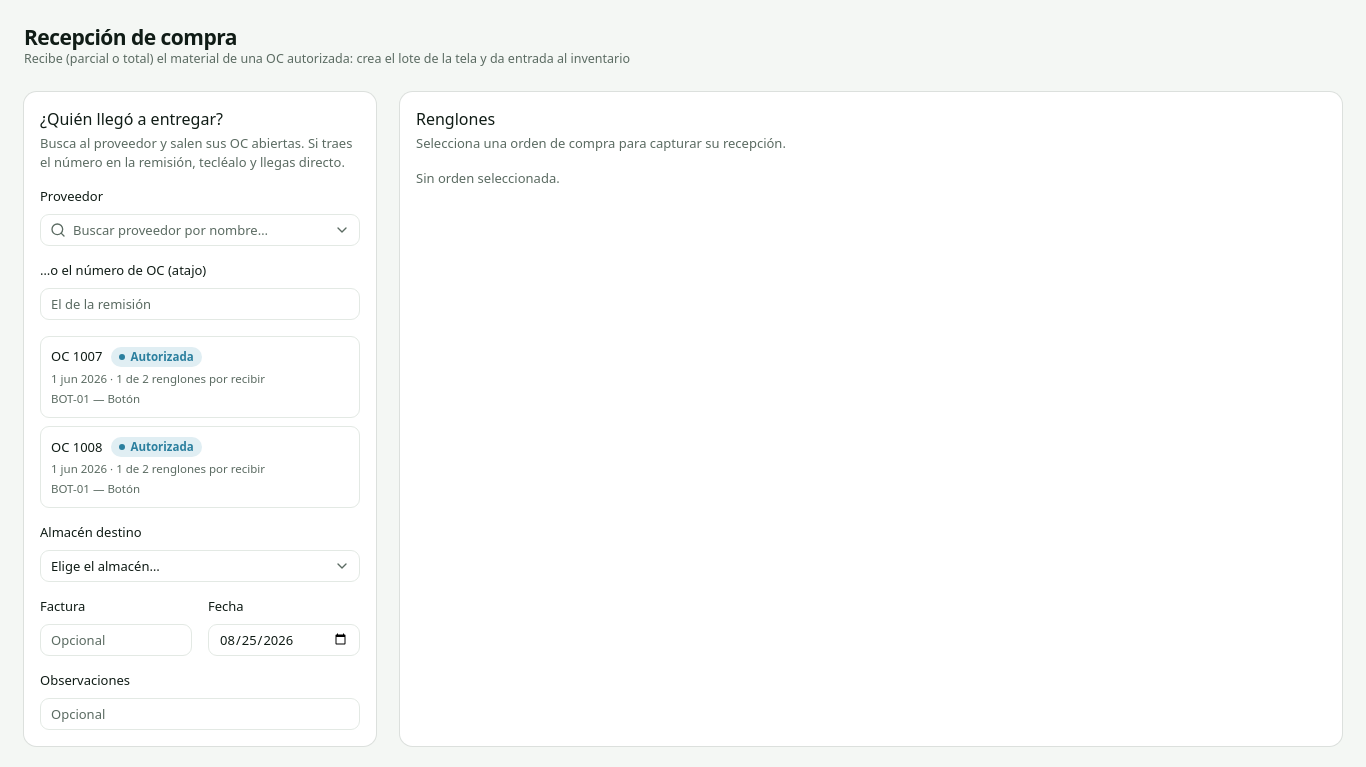
Test: RecepcionComprasPagina (F4-E3) › un renglón ya SURTIDO se dice y precarga 0 (no invita a recibirlo otra vez)
Step 1. Click the button with test id "rec-oc-7" → coordinates (200, 377), box [40,336,360,418]
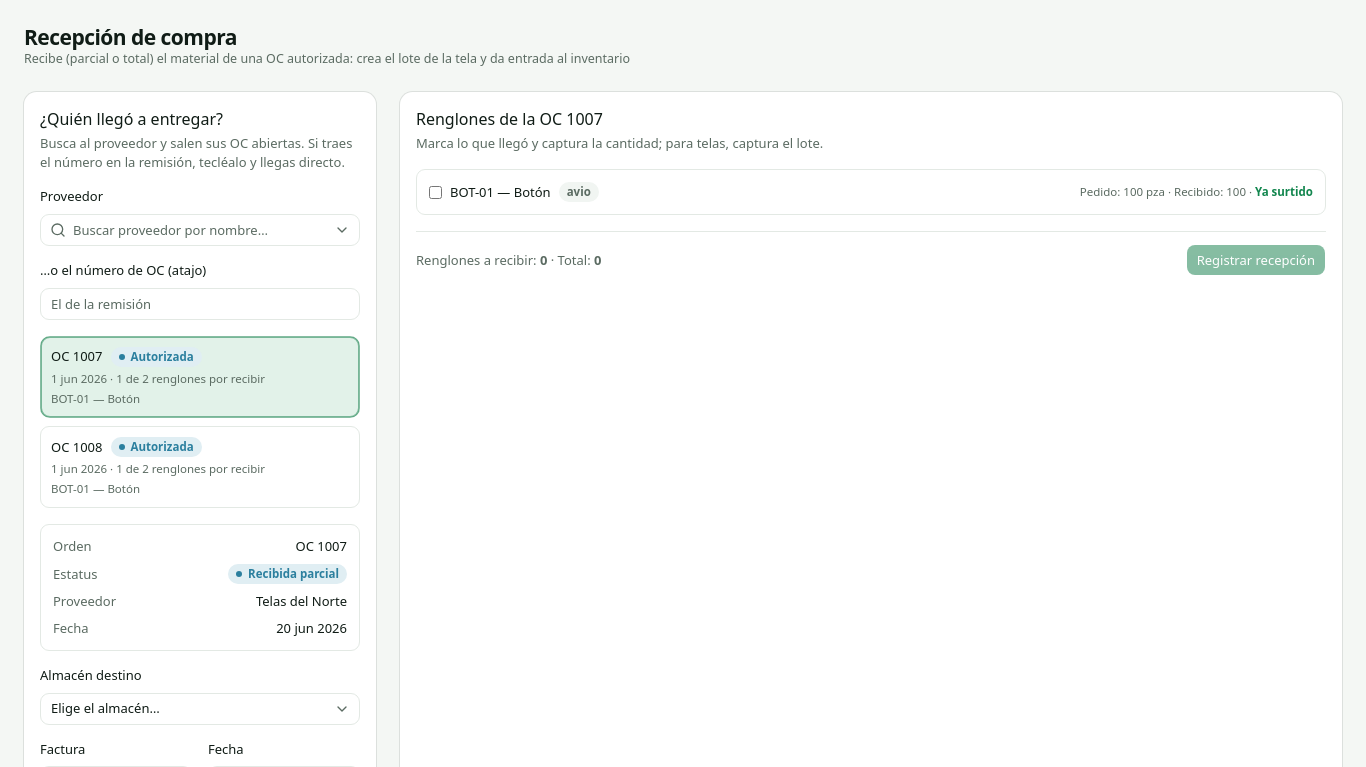
Check: the element with test id "rec-pendiente-21" shows "Ya surtido", box [1255,184,1313,199]
Step 2. Click the checkbox with test id "rec-incluir-21" → coordinates (436, 192), box [429,186,442,199]
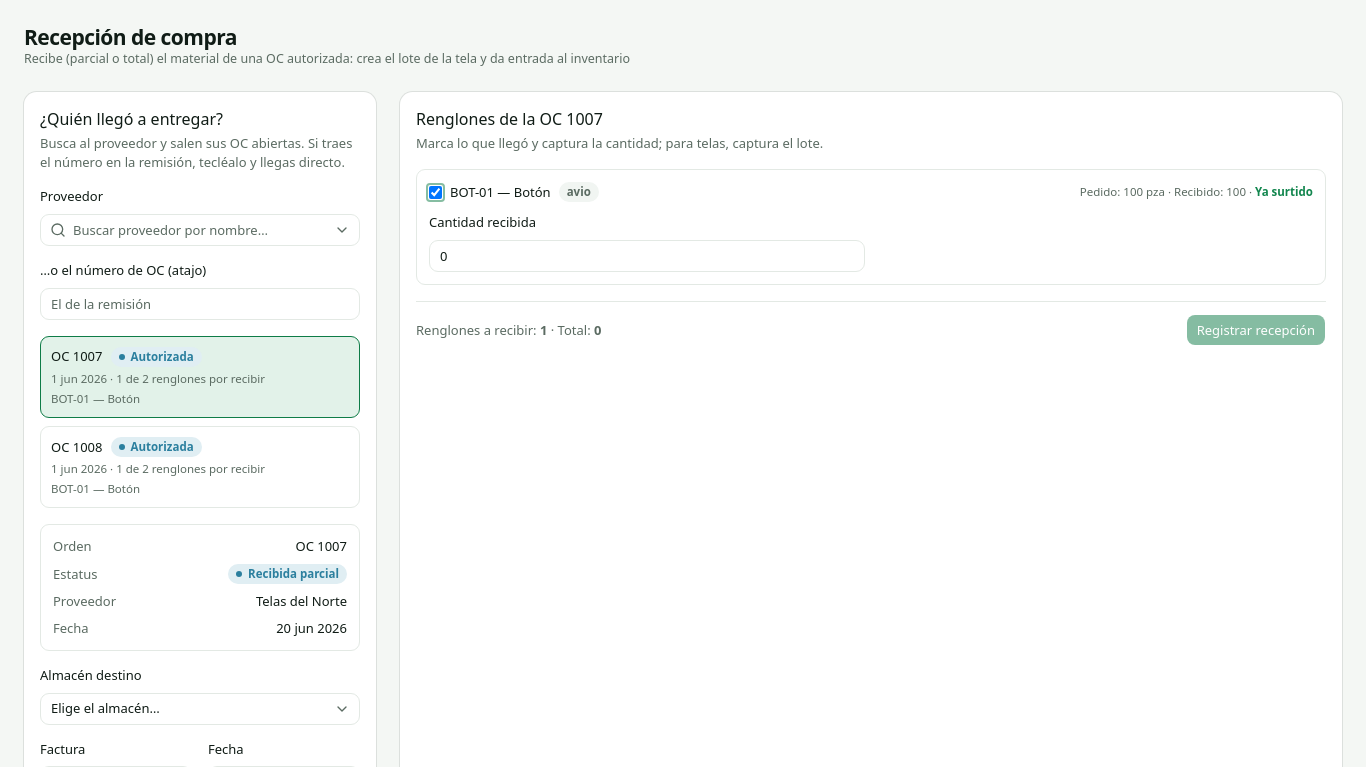
Check: the checkbox with test id "rec-incluir-21" is enabled, box [429,186,442,199]
Check: the number field with test id "rec-cant-21" holds "0", box [429,240,865,272]
